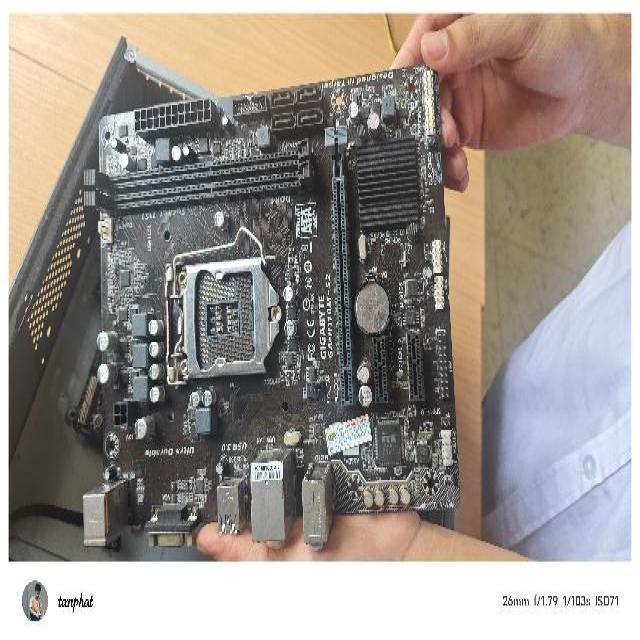Mainboard: (73, 60, 460, 561)
